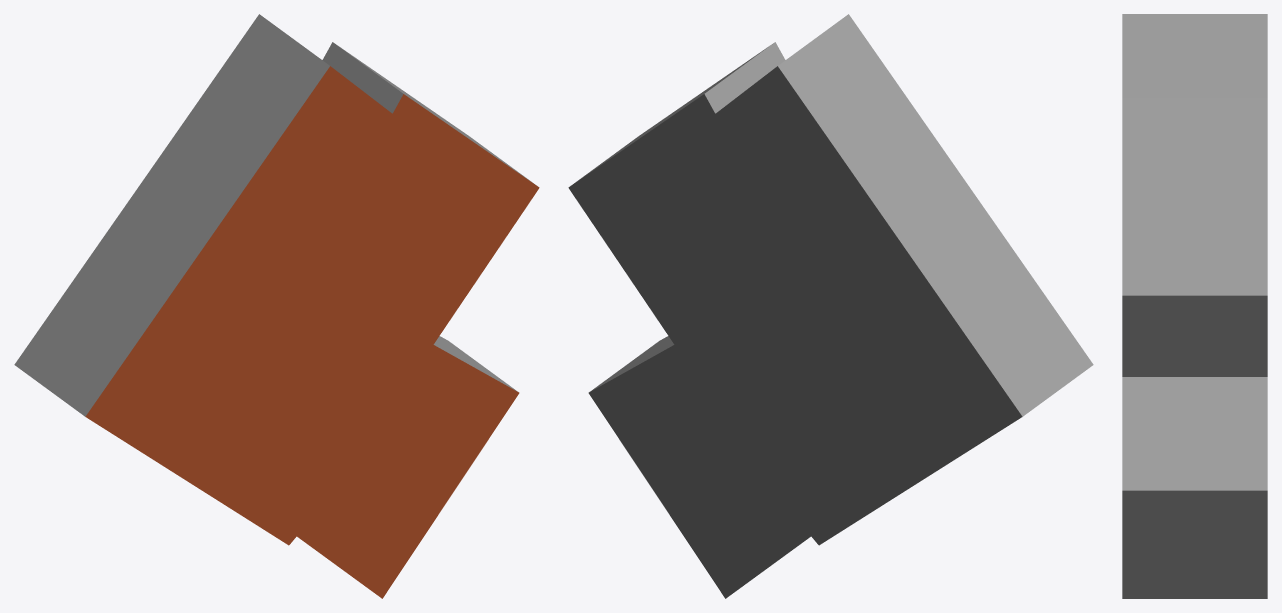
File: construction_0170_assumed_A_Casa_h6m.obj
3 renders of one model, left to right at view 1: azimuth 30°, elevation 25°; view 2: azimuth 150°, elevation 25°; view 3: azimuth 270°, elevation 25°, orthographic. The views are drawn at different scales.
Parts seen in each view (by area): view 1: construction_0170_assumed_A_Casa; view 2: construction_0170_assumed_A_Casa; view 3: construction_0170_assumed_A_Casa.
Boxes of the visible parts, x1=… form: construction_0170_assumed_A_Casa: x1=14, y1=14, x2=539, y2=598; construction_0170_assumed_A_Casa: x1=568, y1=14, x2=1093, y2=598; construction_0170_assumed_A_Casa: x1=1122, y1=14, x2=1267, y2=598.
Bounding box in the file's own units: 22.15 × 25.42 × 6.
